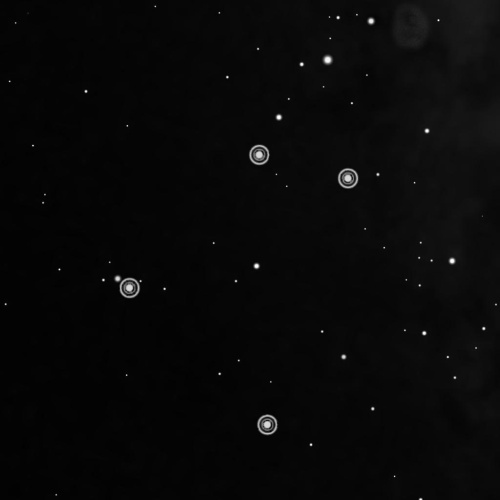coma_berenices: (114, 138, 366, 443)
